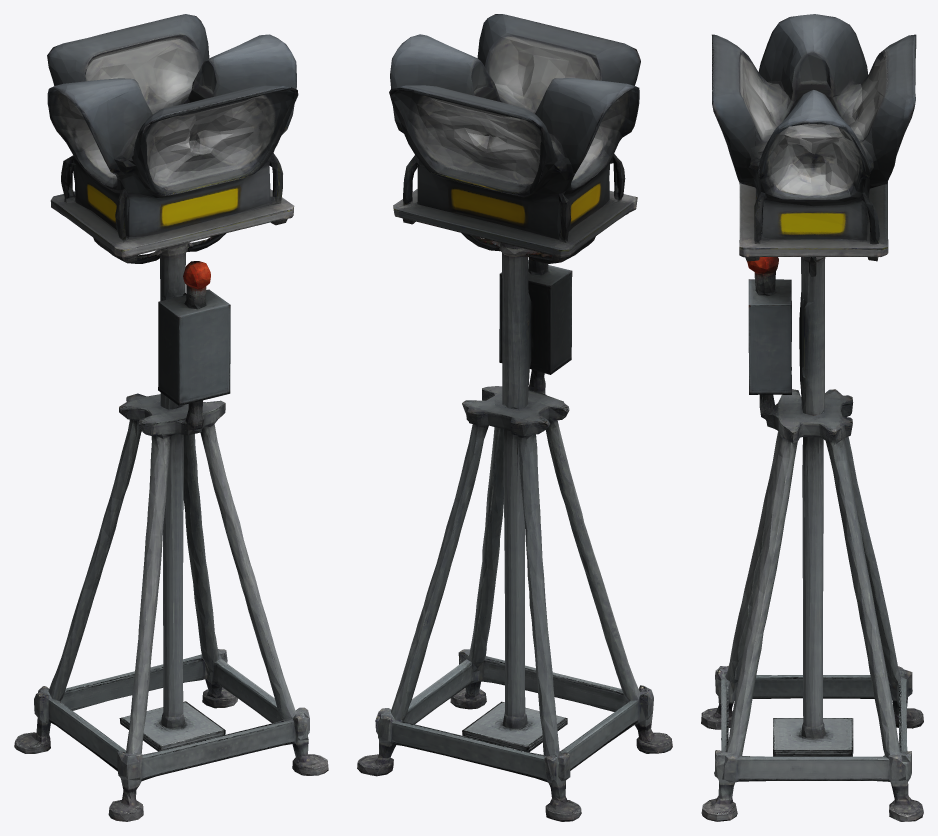
The model's file is SM_Hushpoint_Floodlight.glb.
3 views of the same model, side by side, from view 1: azimuth 30°, elevation 25°; view 2: azimuth 150°, elevation 25°; view 3: azimuth 270°, elevation 25° (orthographic).
Parts seen in each view (by area): view 1: SM_Hushpoint_Floodlight; view 2: SM_Hushpoint_Floodlight; view 3: SM_Hushpoint_Floodlight.
Boxes of the visible parts, x1,y1,x2,y2 form: SM_Hushpoint_Floodlight: (14,14,328,821); SM_Hushpoint_Floodlight: (357,14,672,821); SM_Hushpoint_Floodlight: (701,14,923,821).
Size of the model in its own units: 1.4 by 4.2 by 1.21.
Materials: 1 (1 with a texture image).
